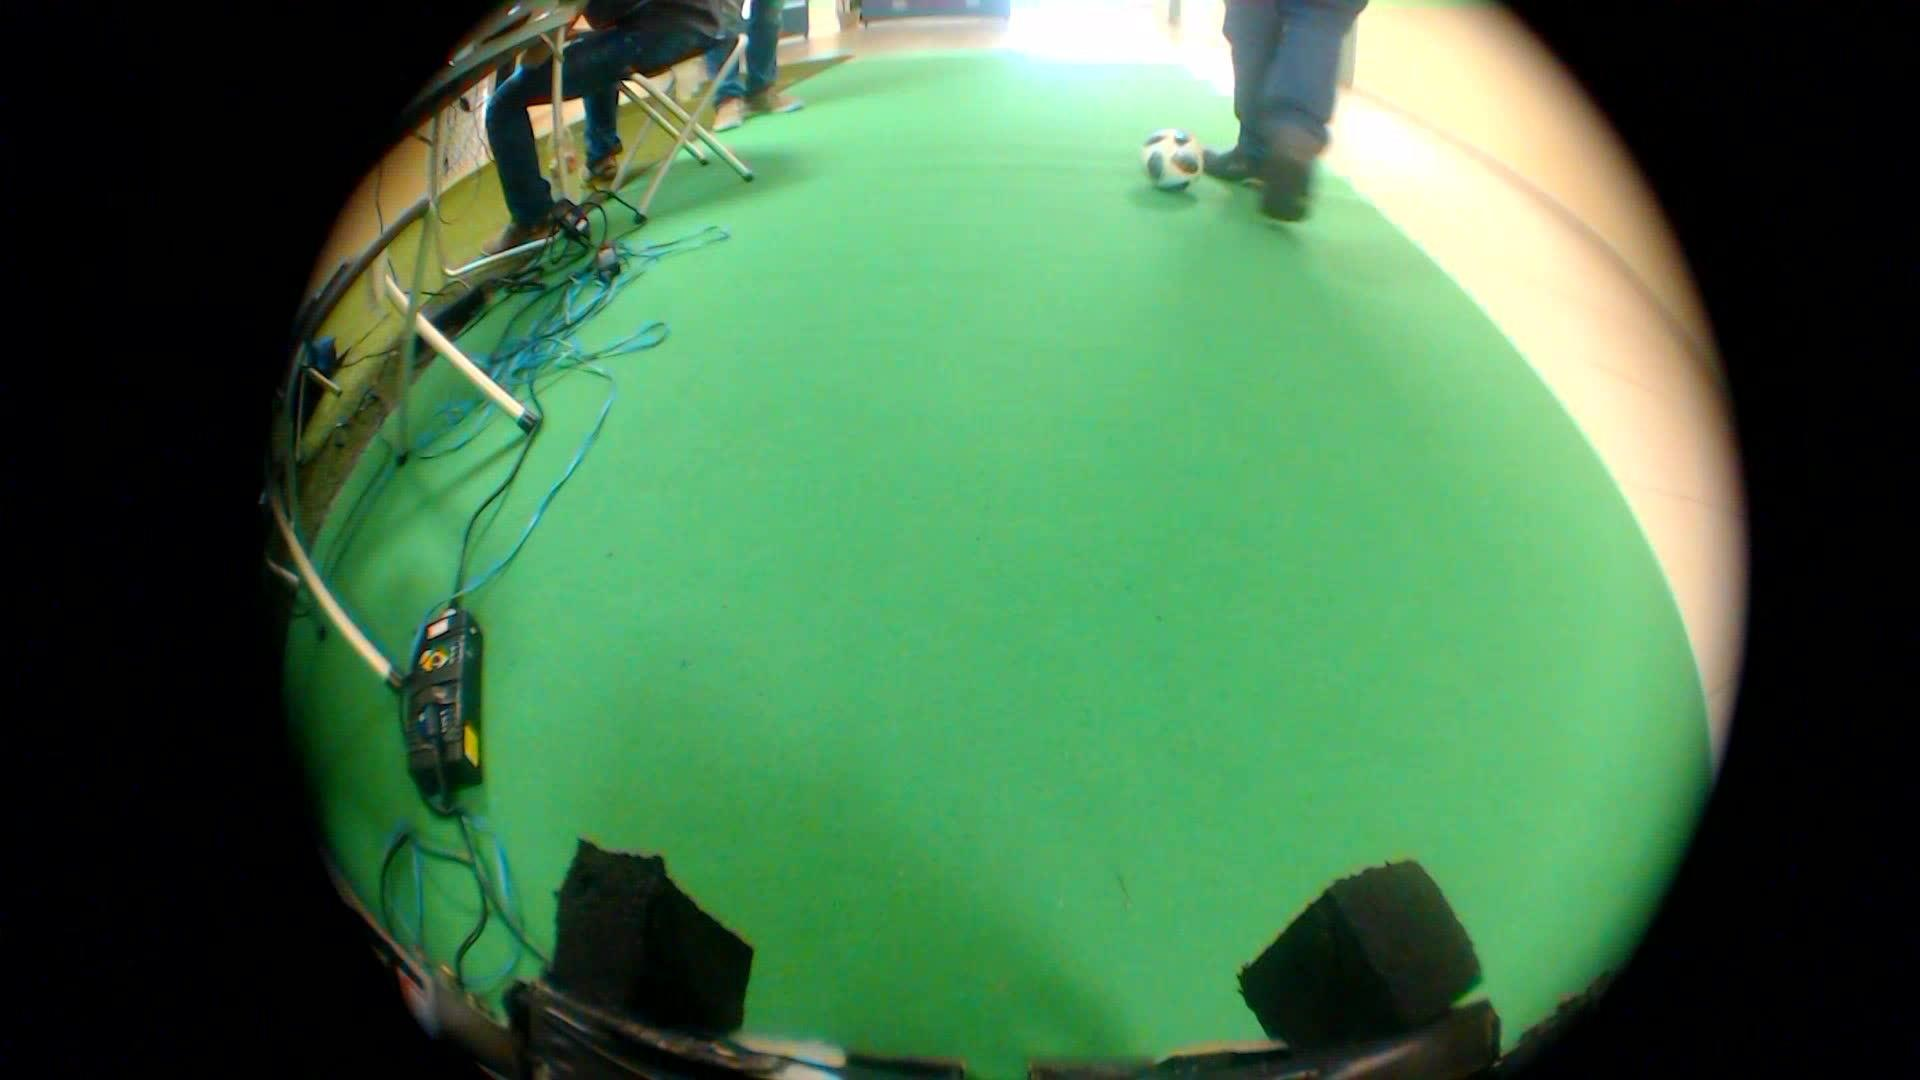ball: (1139, 117, 1217, 202)
